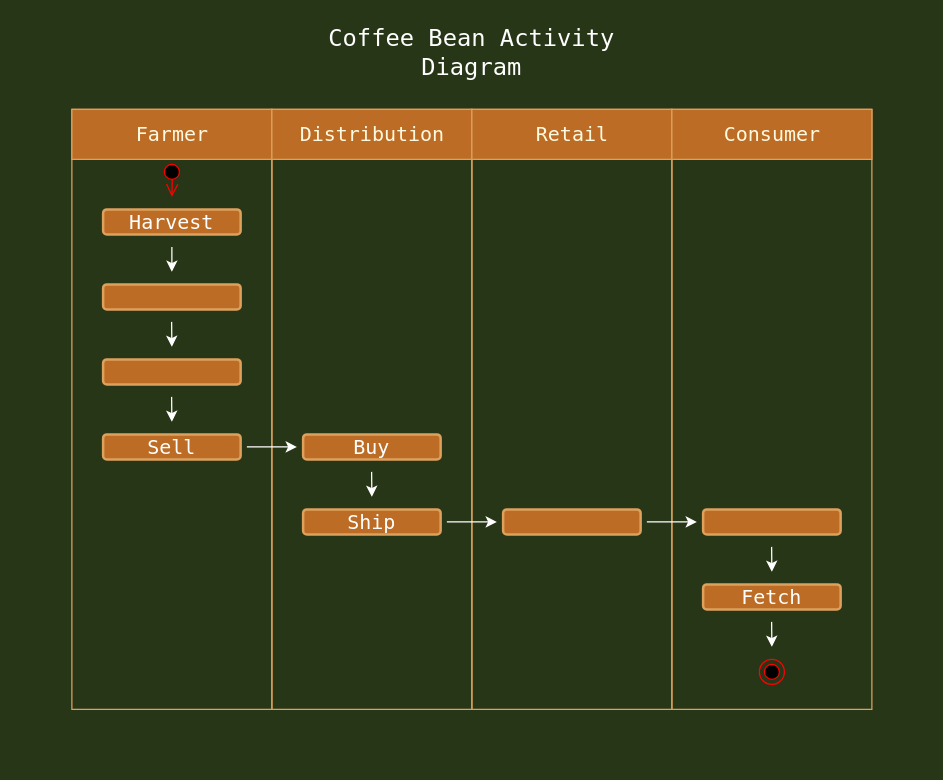
This 943x780 diagram has some shape labels left out. Each missing label, with the centre of its shape:
"Package" belongs at [171,371].
"Process" belongs at [171,296].
"Purchase" belongs at [771,521].
"receive" belongs at [571,521].
